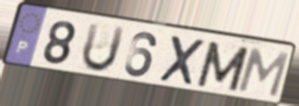6: (123, 30, 158, 78)
8: (43, 20, 78, 66)
M: (194, 39, 252, 94), (235, 46, 292, 100)
U: (80, 21, 128, 74)
X: (156, 33, 207, 88)
